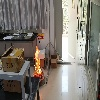fire: (34, 44, 41, 77)
